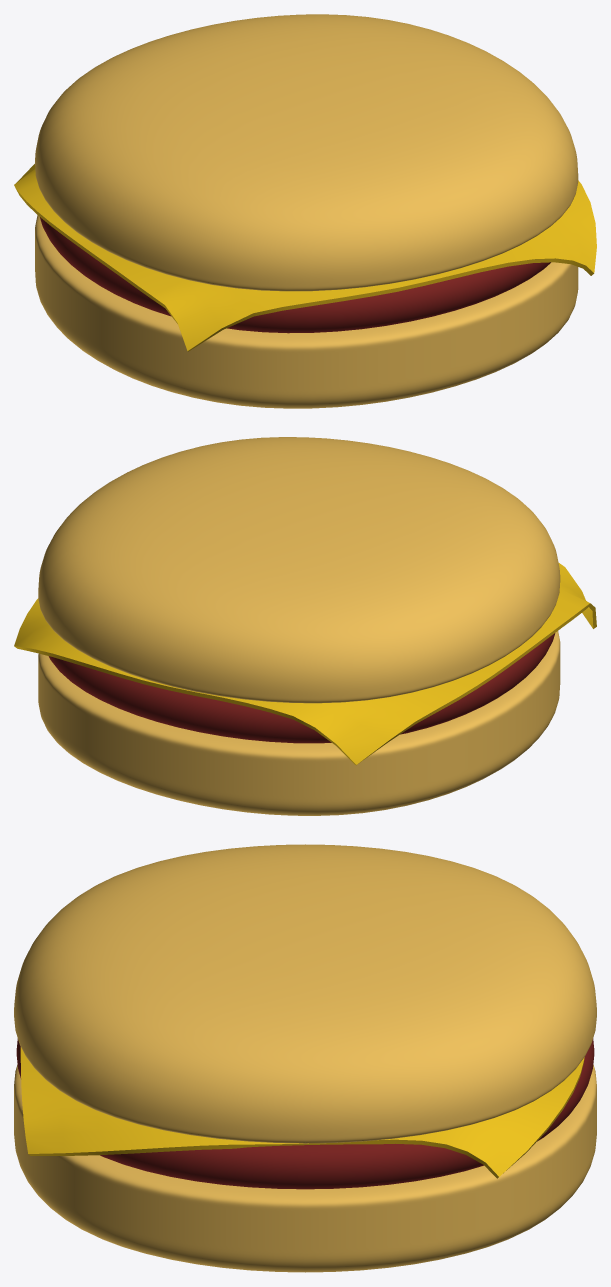
File: burger.glb
3 renders of one model, top to bottom at view 1: azimuth 30°, elevation 25°; view 2: azimuth 150°, elevation 25°; view 3: azimuth 270°, elevation 25°, orthographic. The views are drawn at different scales.
Parts seen in each view (by area): view 1: TopBun, BottomBun, Cheese, Patty; view 2: TopBun, BottomBun, Cheese, Patty; view 3: TopBun, BottomBun, Cheese, Patty.
Boxes of the visible parts, x1,y1,x2,y2 form: TopBun: (35, 14, 578, 291); BottomBun: (35, 215, 578, 408); Cheese: (14, 164, 596, 351); Patty: (40, 217, 550, 333); TopBun: (38, 437, 560, 703); BottomBun: (38, 631, 560, 815); Cheese: (14, 563, 596, 765); Patty: (48, 633, 555, 743); TopBun: (14, 844, 596, 1143); BottomBun: (14, 1064, 596, 1272); Cheese: (20, 1047, 584, 1178); Patty: (16, 1038, 594, 1189).
Bounding box in the file's own units: 9.18 × 4.41 × 9.18.
